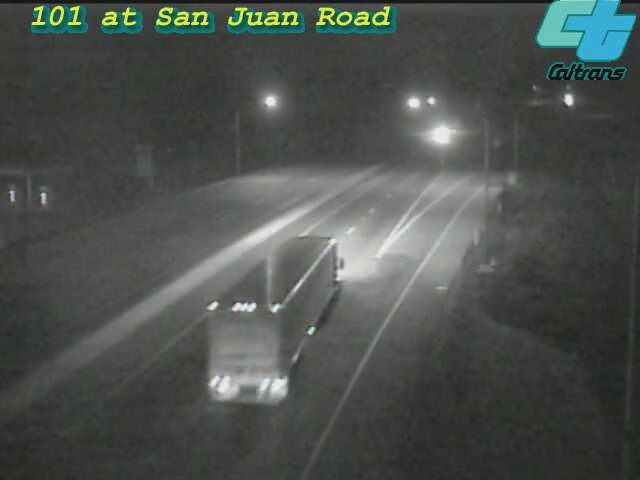vehicle: (216, 266, 326, 376), (416, 109, 466, 159)
